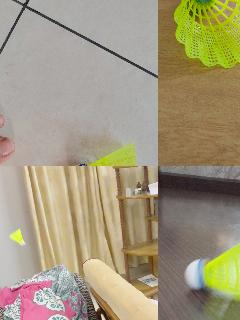shuttlecock: (183, 229, 239, 314), (175, 0, 239, 70), (67, 141, 141, 165), (9, 228, 25, 246)
